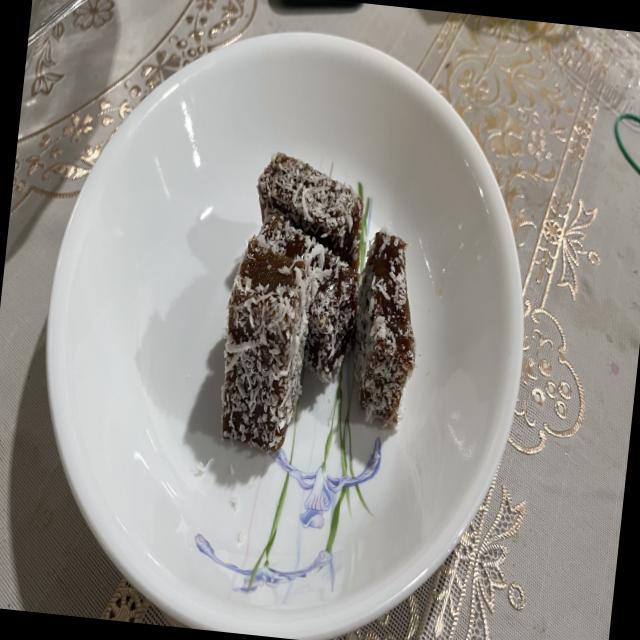kaswi: (220, 238, 309, 457), (256, 217, 358, 381), (257, 152, 363, 270), (353, 230, 415, 425)
